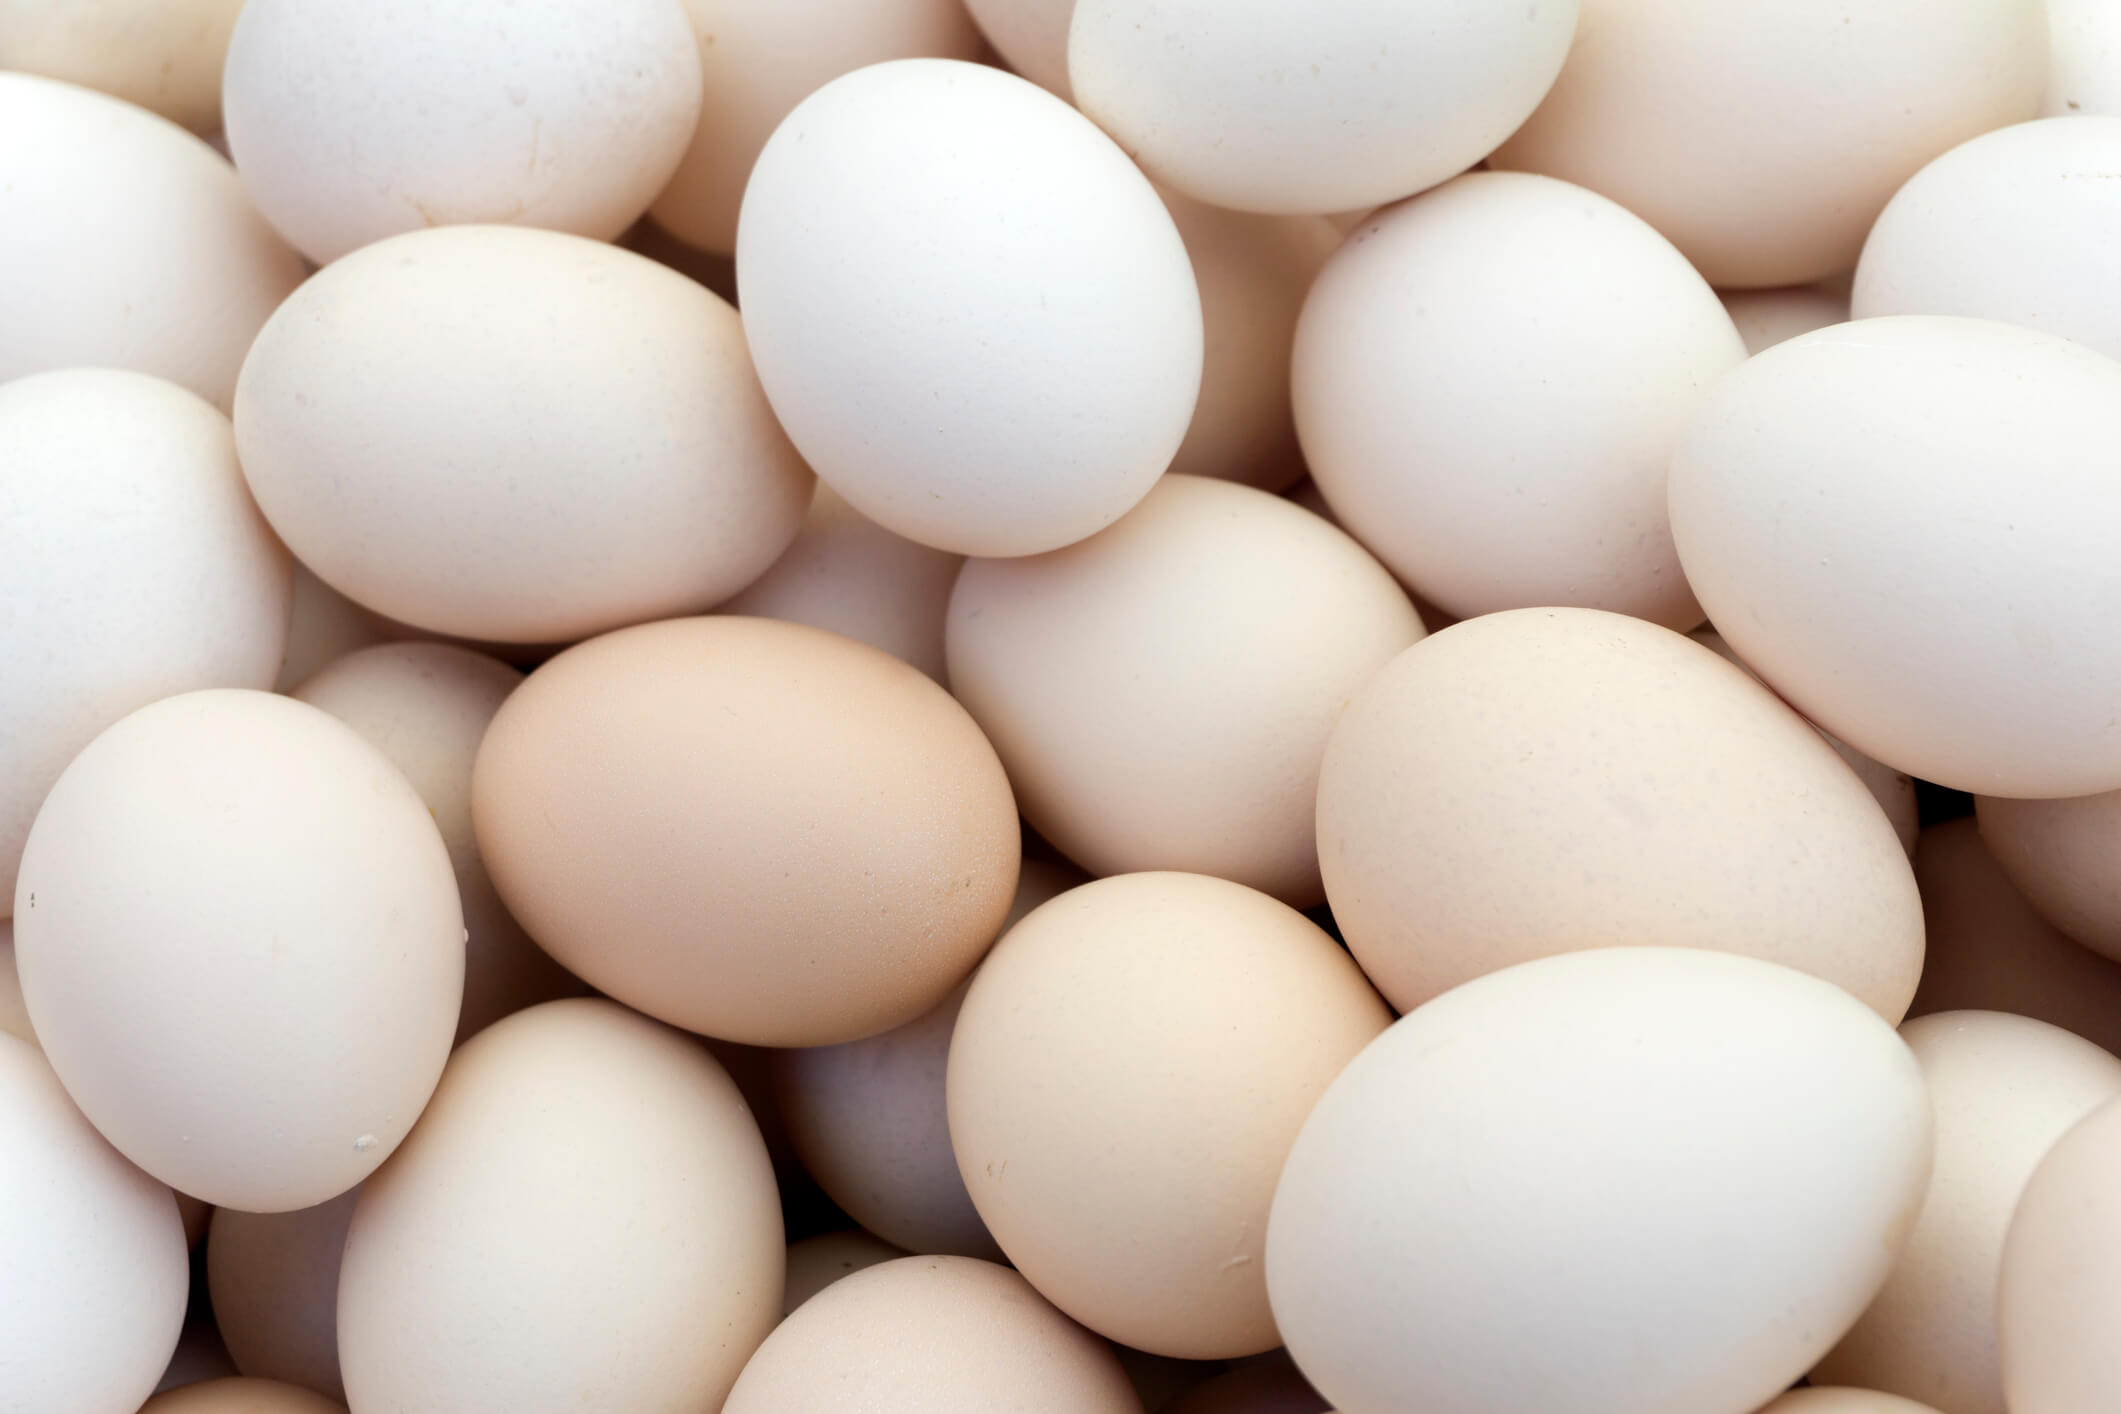Egg: (1251, 933, 1958, 1414), (1307, 589, 1958, 1059), (6, 655, 478, 1228), (218, 227, 844, 655), (461, 597, 1029, 1059), (1259, 159, 1772, 664), (941, 866, 1428, 1390), (731, 54, 1206, 574), (1671, 301, 2121, 819), (928, 462, 1446, 900), (301, 978, 792, 1414), (0, 349, 327, 895), (0, 50, 331, 450), (205, 0, 723, 248)
